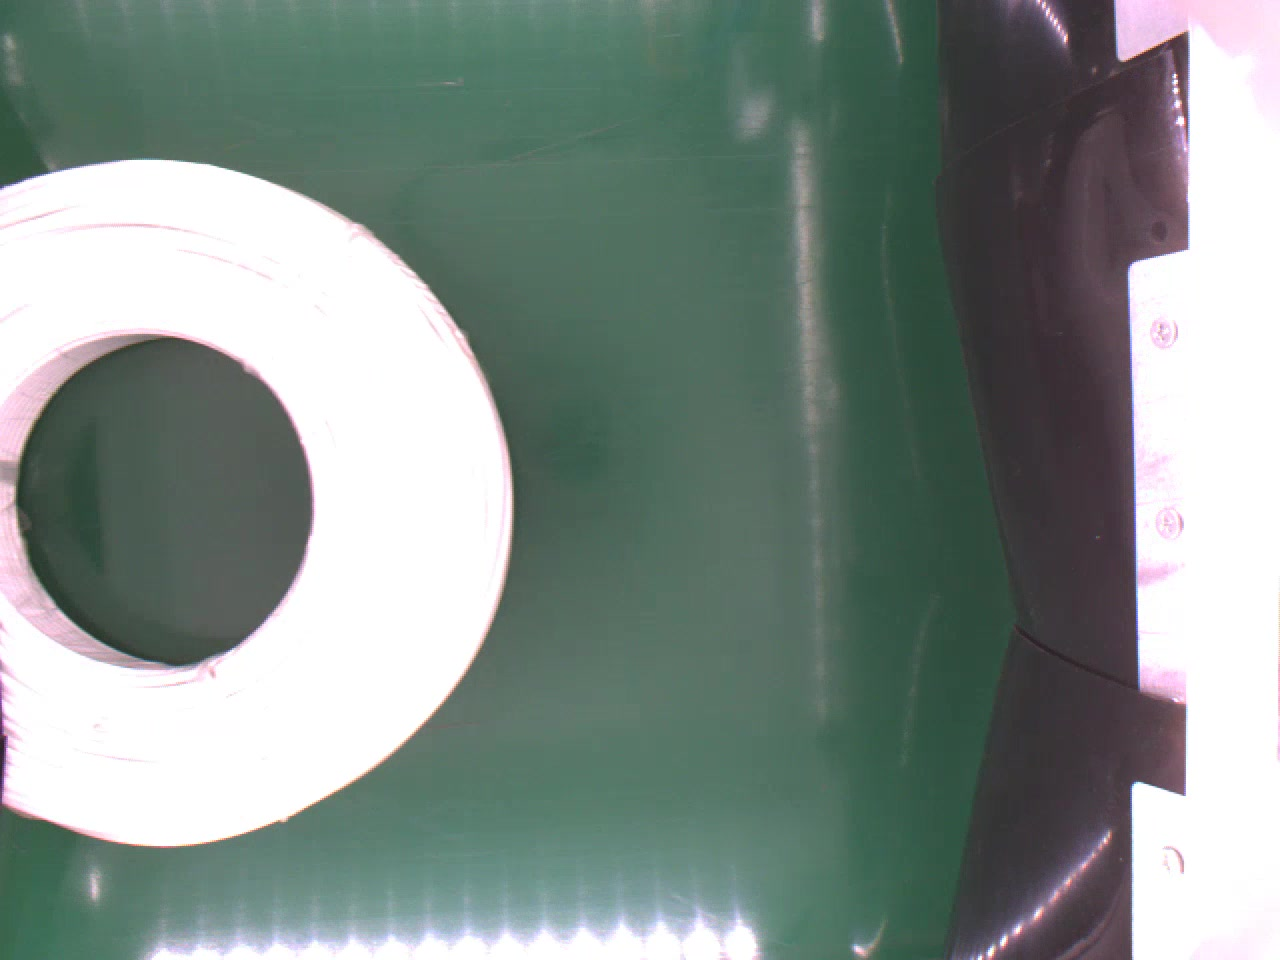white: (0, 158, 519, 851)
